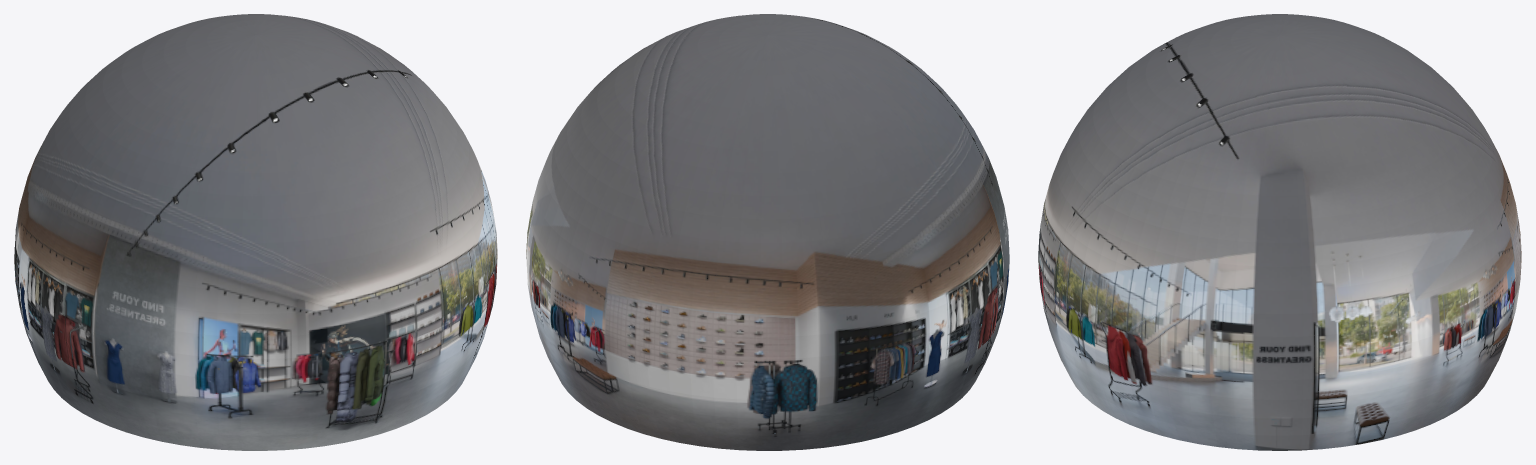
File: Interior 65.glb
3 views of the same model, side by side, from view 1: azimuth 30°, elevation 25°; view 2: azimuth 150°, elevation 25°; view 3: azimuth 270°, elevation 25° (orthographic).
Visible parts, largest first — view 1: Sphere; view 2: Sphere; view 3: Sphere.
Boxes of the visible parts, <box> form: Sphere: <box>14,14,497,450</box>; Sphere: <box>526,14,1009,450</box>; Sphere: <box>1038,14,1521,450</box>.
Bounding box in the file's own units: 19.74 × 14.66 × 19.74.
Materials: 1 (1 with a texture image).
